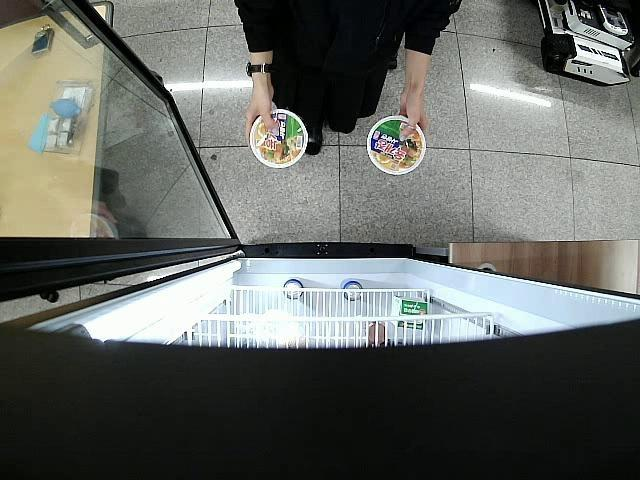09_yukGaeJang: (367, 114, 428, 174), (250, 108, 309, 166)
